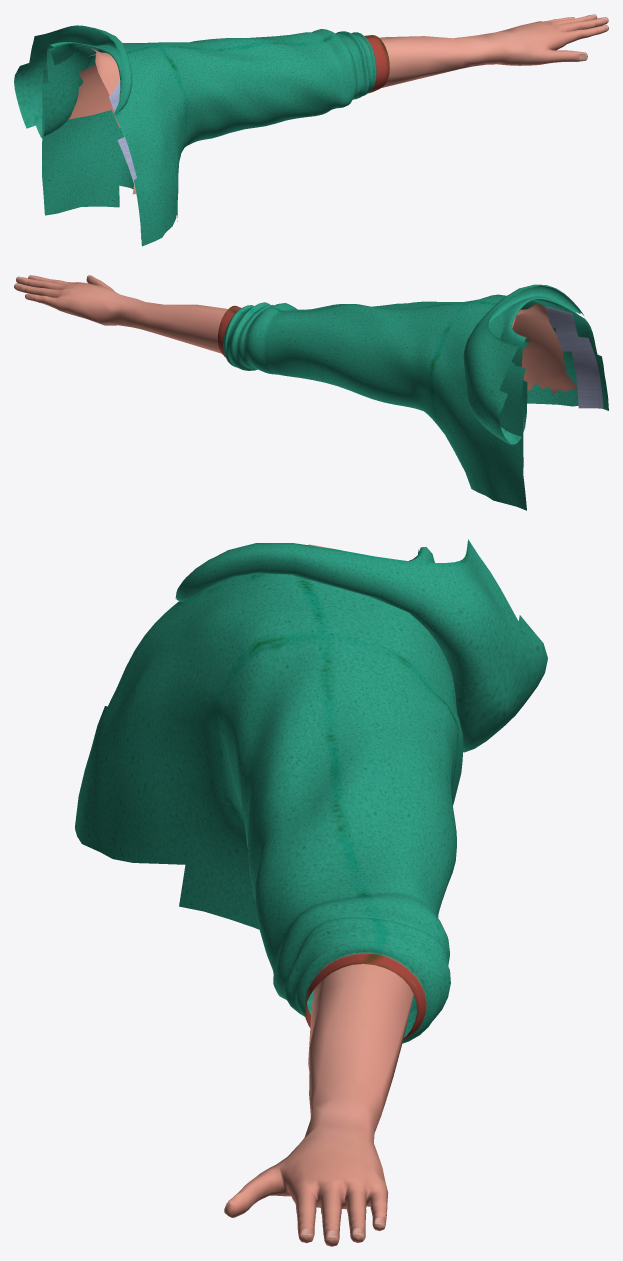
The model's file is Hand.fbx.
3 renders of one model, top to bottom at view 1: azimuth 30°, elevation 25°; view 2: azimuth 150°, elevation 25°; view 3: azimuth 270°, elevation 25°, orthographic. The views are drawn at different scales.
Visible parts, largest first — view 1: TSHIRT, CC_Game_Body; view 2: TSHIRT, CC_Game_Body; view 3: TSHIRT, CC_Game_Body.
Boxes of the visible parts, x1,y1,x2,y2 form: TSHIRT: (14,25,389,246); CC_Game_Body: (68,14,608,194); TSHIRT: (218,284,608,510); CC_Game_Body: (14,275,577,392); TSHIRT: (75,539,547,1043); CC_Game_Body: (224,544,413,1246).
Size of the model in its own units: 115 by 38.41 by 43.57.
